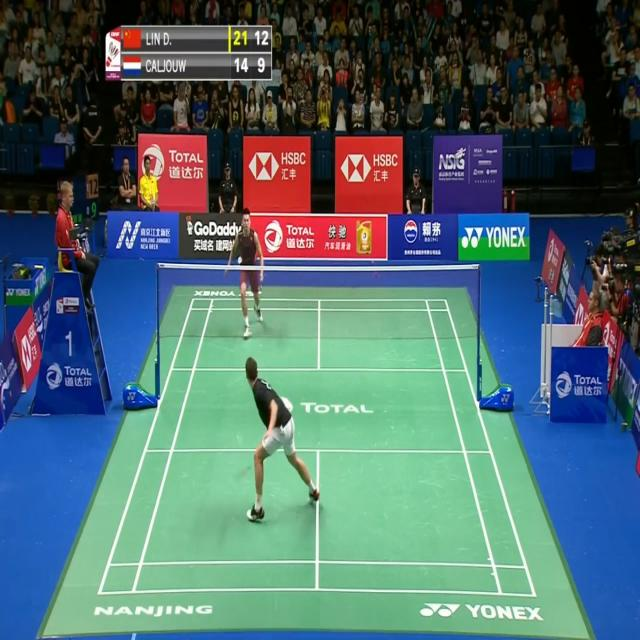Player1: (232, 354, 322, 530)
Player2: (219, 204, 269, 340)
